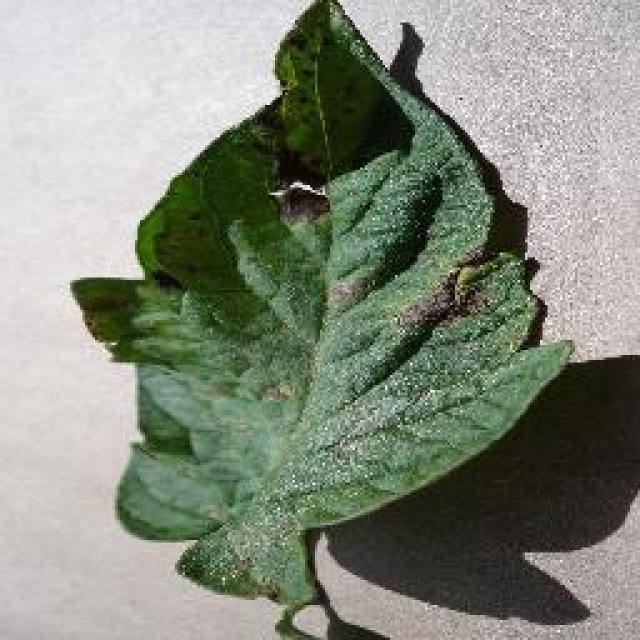Tomato Early blight leaf: (93, 0, 555, 608)
